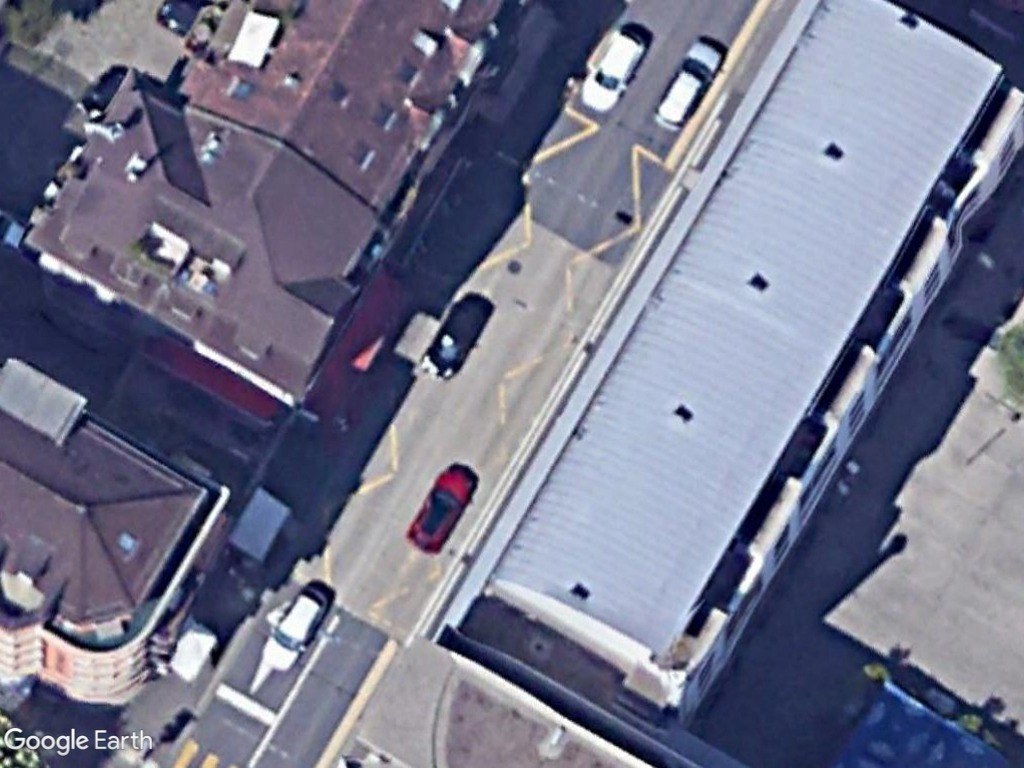car: (651, 33, 728, 135), (401, 456, 477, 557), (257, 582, 333, 674), (575, 25, 651, 112)
